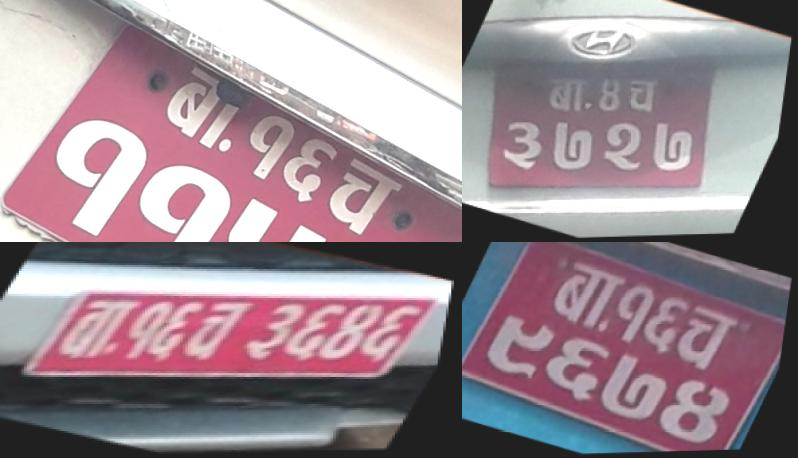1: (22, 100, 175, 242), (110, 146, 257, 242), (229, 96, 314, 193), (112, 292, 186, 370), (601, 276, 665, 349)
2: (592, 117, 662, 184)
3: (241, 297, 316, 372), (489, 108, 562, 182)
4: (653, 370, 745, 454), (317, 296, 395, 374), (590, 74, 635, 119)
5: (190, 187, 349, 242)
6: (274, 121, 357, 214), (534, 327, 624, 411), (353, 300, 434, 375), (277, 297, 355, 371), (148, 295, 220, 368), (634, 288, 698, 362)
7: (591, 347, 686, 431), (640, 111, 720, 182), (539, 118, 610, 183)
9: (476, 306, 568, 390)
ba: (152, 53, 267, 164), (51, 287, 152, 369), (541, 254, 633, 338), (538, 69, 596, 119)
cha: (318, 147, 423, 242), (179, 292, 266, 371), (664, 302, 746, 382), (616, 71, 674, 128)
